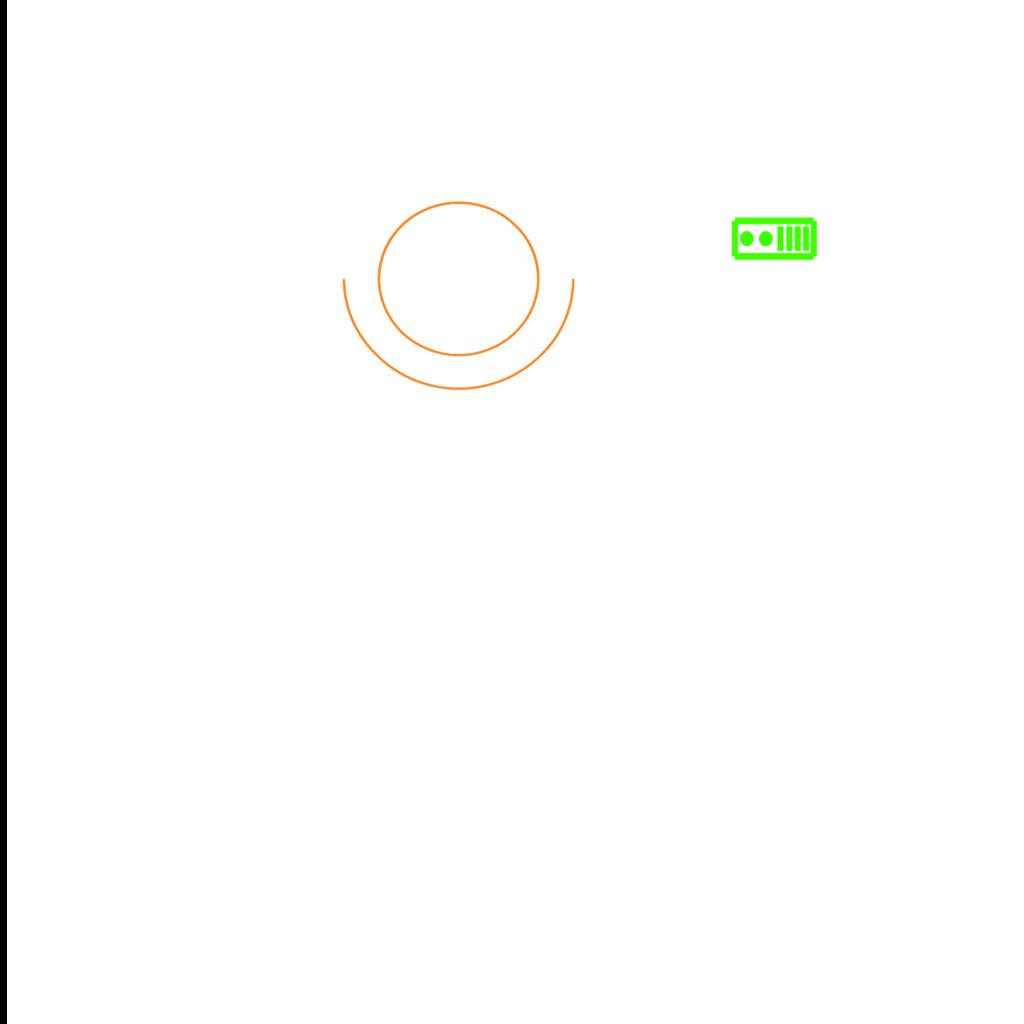Gegensprechanlage_mit_Video: (730, 216, 818, 263)
Scheinwerfer_fuer_Alarmbeleuchtung: (333, 176, 597, 401)
